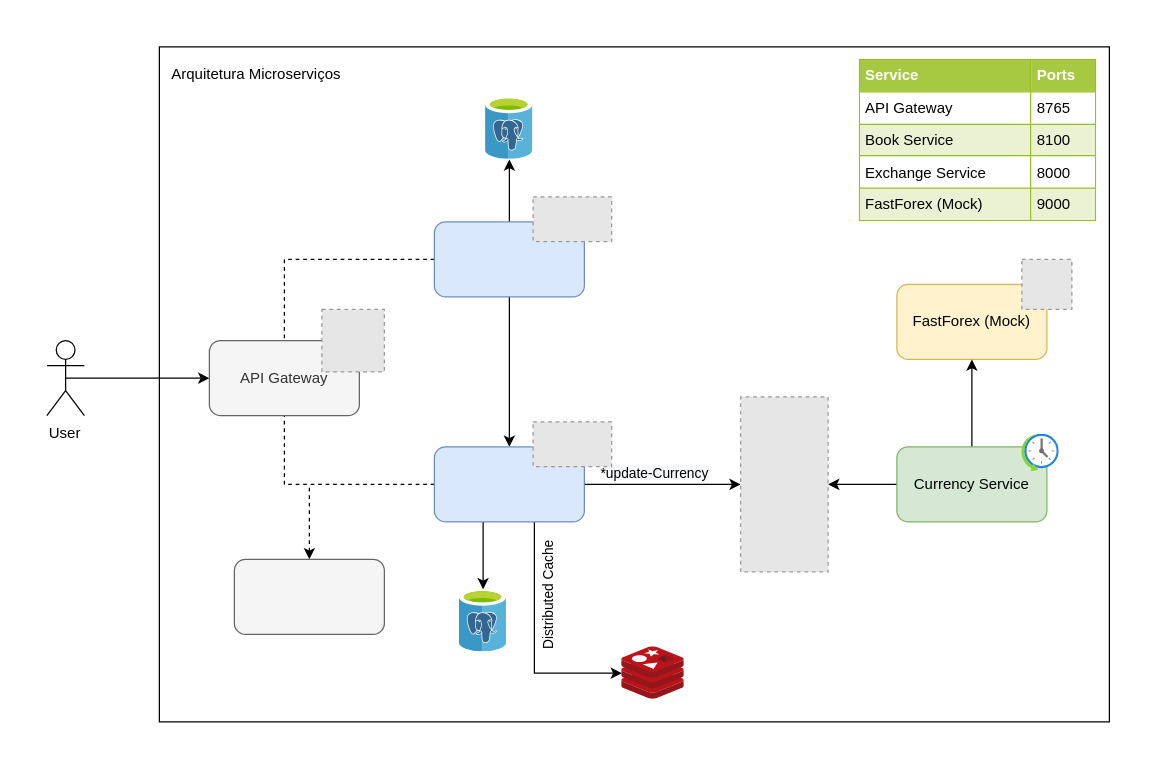
The diagram is 1168 pixels wide and 780 high, and some of its shapes have lost their labels. Grey dashed boxes stand in for pictures. Each missing label, with the centre of its shape:
"Book Service" goes at [508,259].
"Exchange Service" goes at [508,484].
"Naming Server (Eureka)" goes at [308,596].
